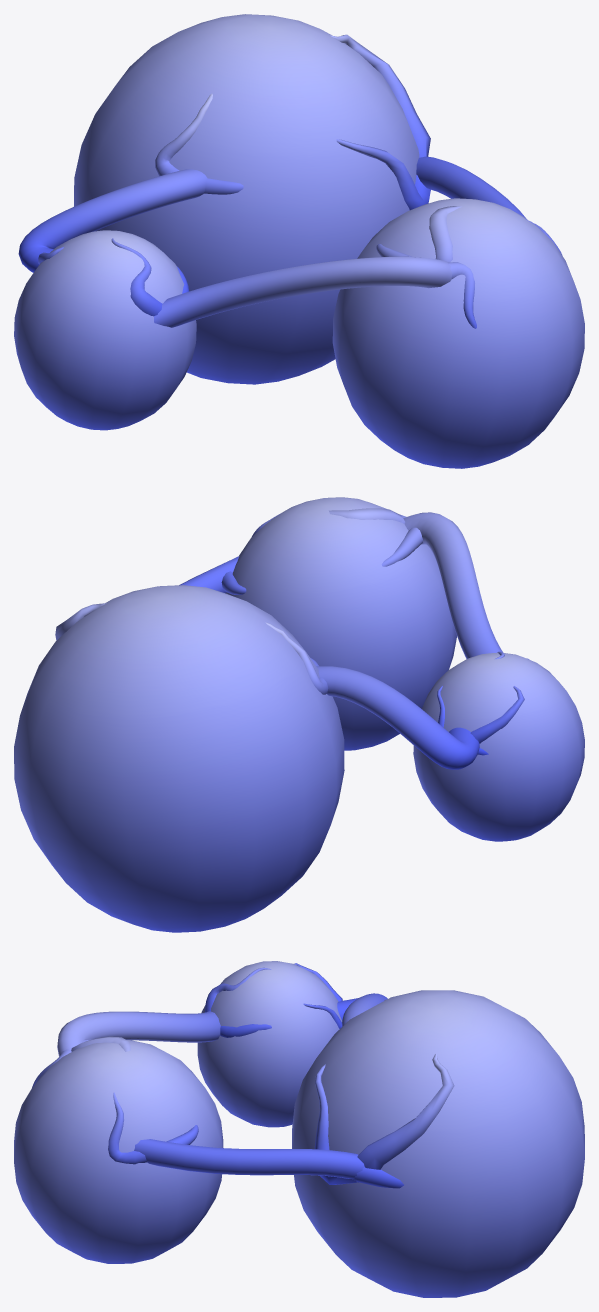
File: Landmark.fbx
The picture shows the model from 3 angles, top to bottom: view 1: azimuth 30°, elevation 25°; view 2: azimuth 150°, elevation 25°; view 3: azimuth 270°, elevation 25°; orthographic projection. The views are drawn at different scales.
Visible parts, largest first — view 1: Landmark.001, Landmark; view 2: Landmark.001, Landmark; view 3: Landmark.001, Landmark.
Part boxes in pixels (x1,y1,x2,y2): Landmark.001: (14, 14, 584, 468); Landmark: (18, 34, 562, 328); Landmark.001: (14, 497, 584, 932); Landmark: (55, 508, 529, 769); Landmark.001: (14, 961, 584, 1297); Landmark: (32, 963, 454, 1188).
Size of the model in its own units: 738 by 501 by 920.
